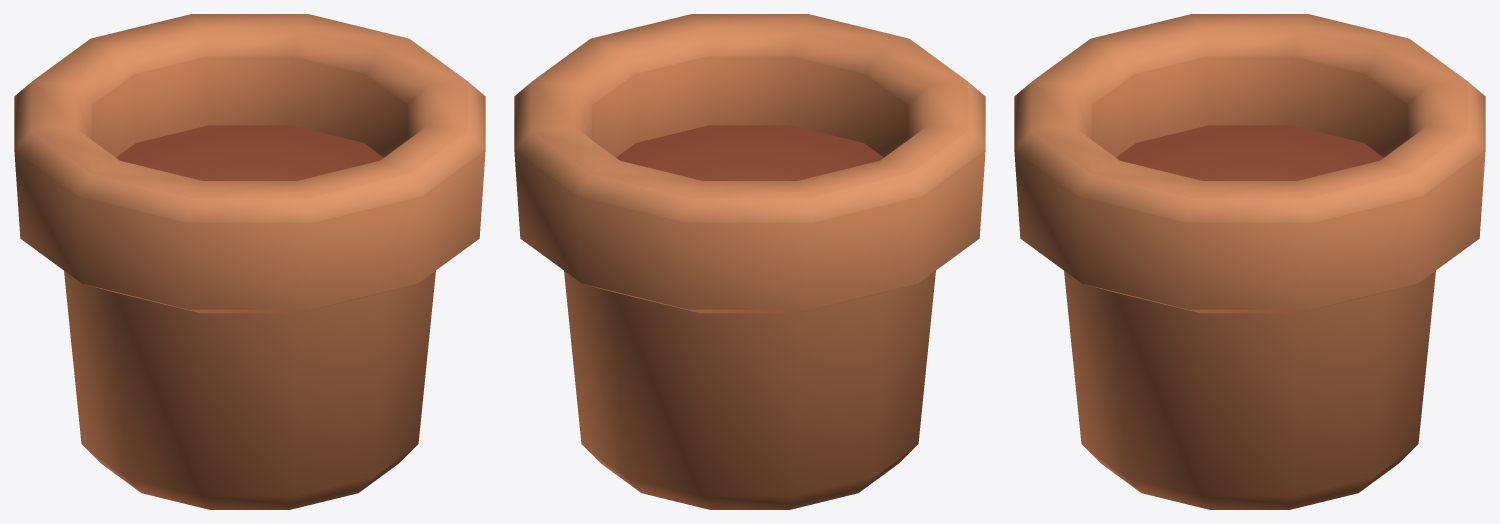
The model's file is pot_A_small.fbx.
3 renders of one model, left to right at view 1: azimuth 30°, elevation 25°; view 2: azimuth 150°, elevation 25°; view 3: azimuth 270°, elevation 25°, orthographic.
Visible parts, largest first — view 1: pot_A_small; view 2: pot_A_small; view 3: pot_A_small.
Boxes of the visible parts, <box> form: pot_A_small: <box>14,14,485,509</box>; pot_A_small: <box>514,14,985,509</box>; pot_A_small: <box>1014,14,1485,509</box>.
Bounding box in the file's own units: 50 × 39.97 × 50.
1 material, 1 textured.
